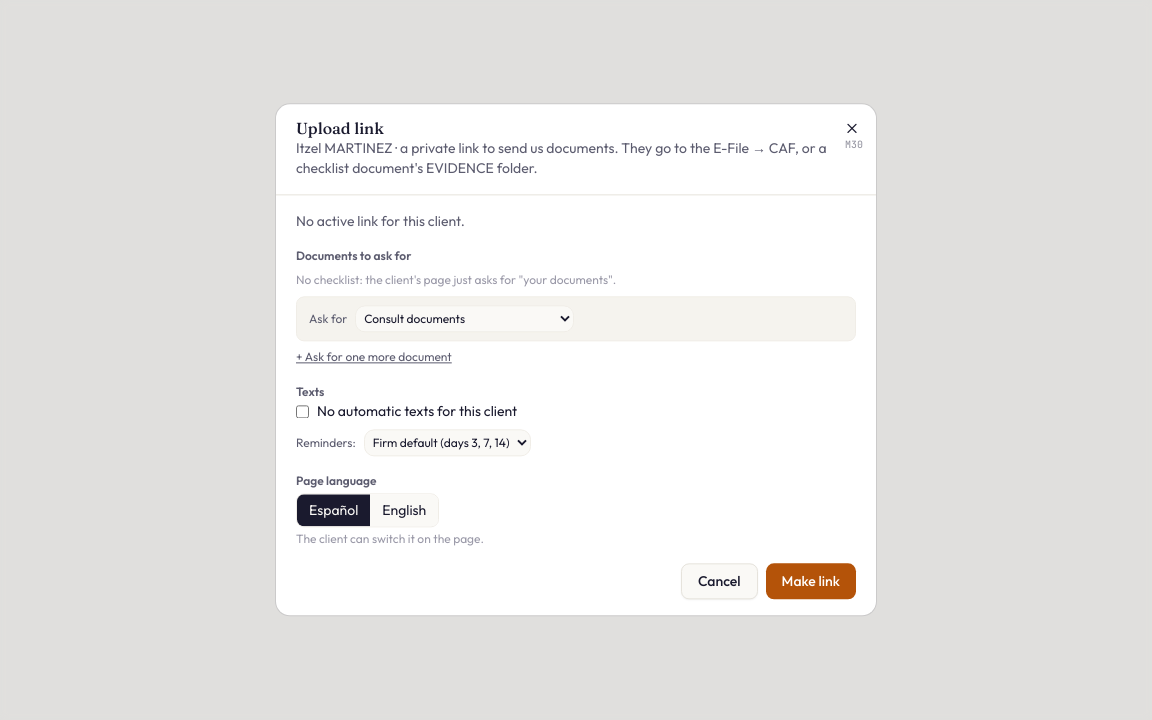
Test case: Buzón checklist in M30 › Ask for → Consult → the appointment and a consult list; Other needs no list
Select "Consult documents" in the dropdown labelled "Ask for": (465, 319) [355, 306, 574, 332]
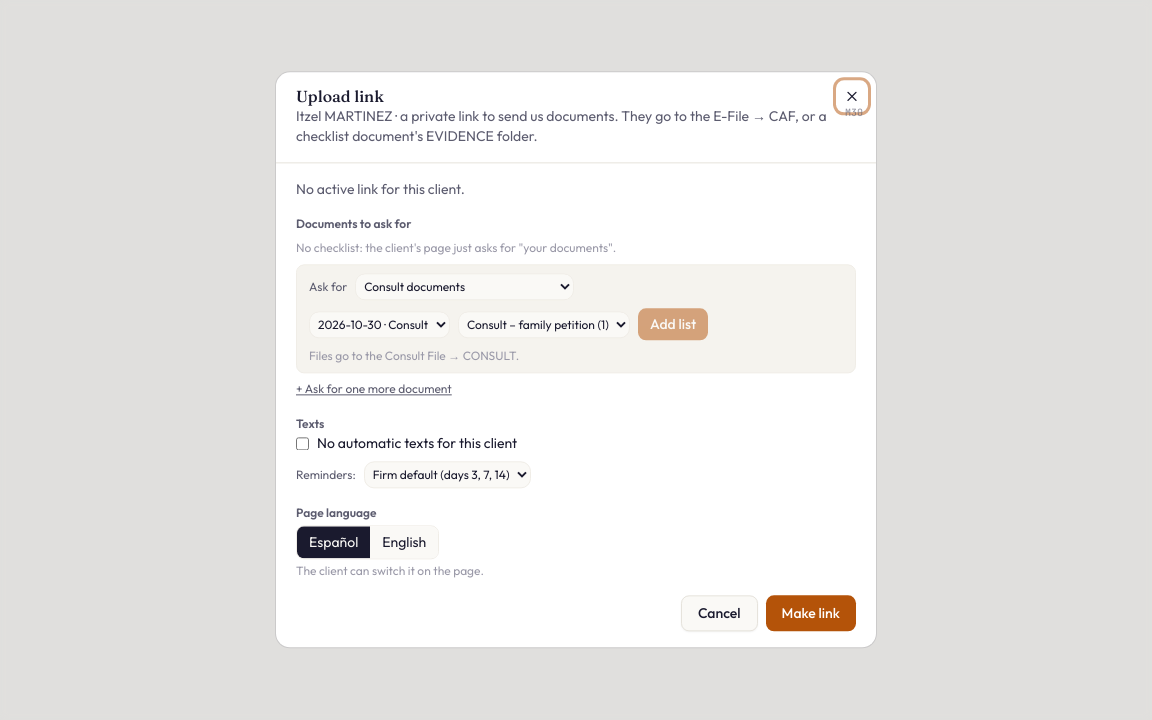
Select "Consult – family petition (1)" in the dropdown named "Consult list": (544, 324) [458, 311, 630, 338]
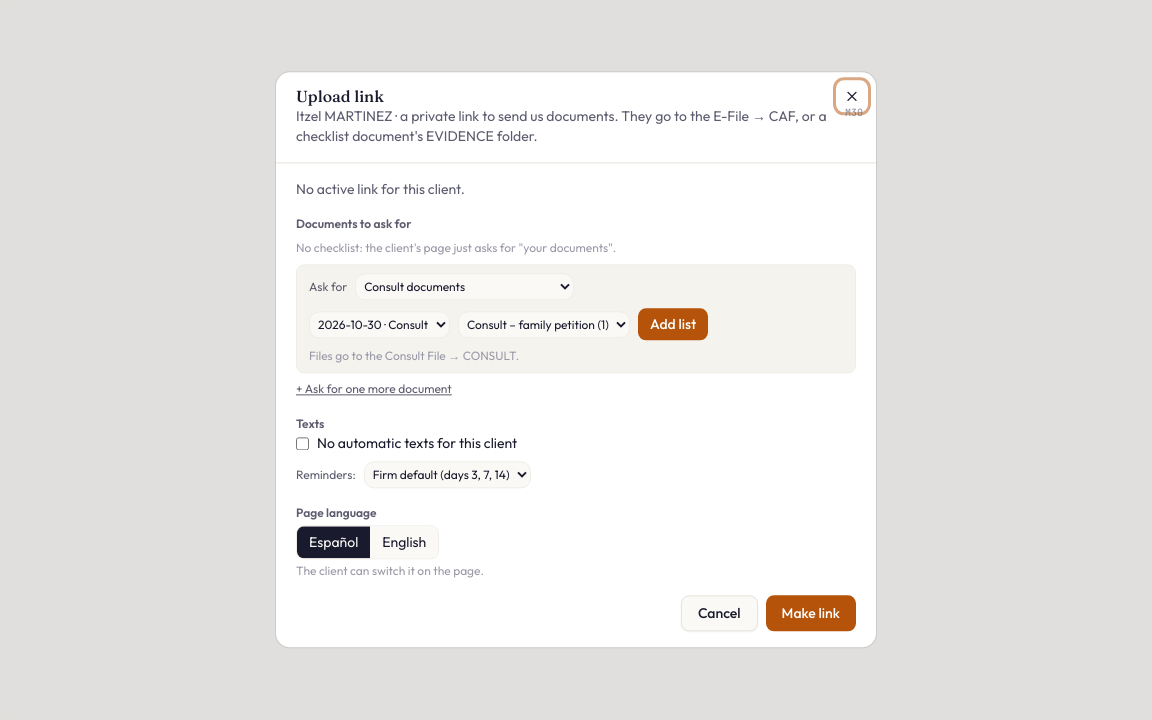
Now the button "Add list" is shown
Click the button "Add list": (673, 324) [638, 308, 708, 340]
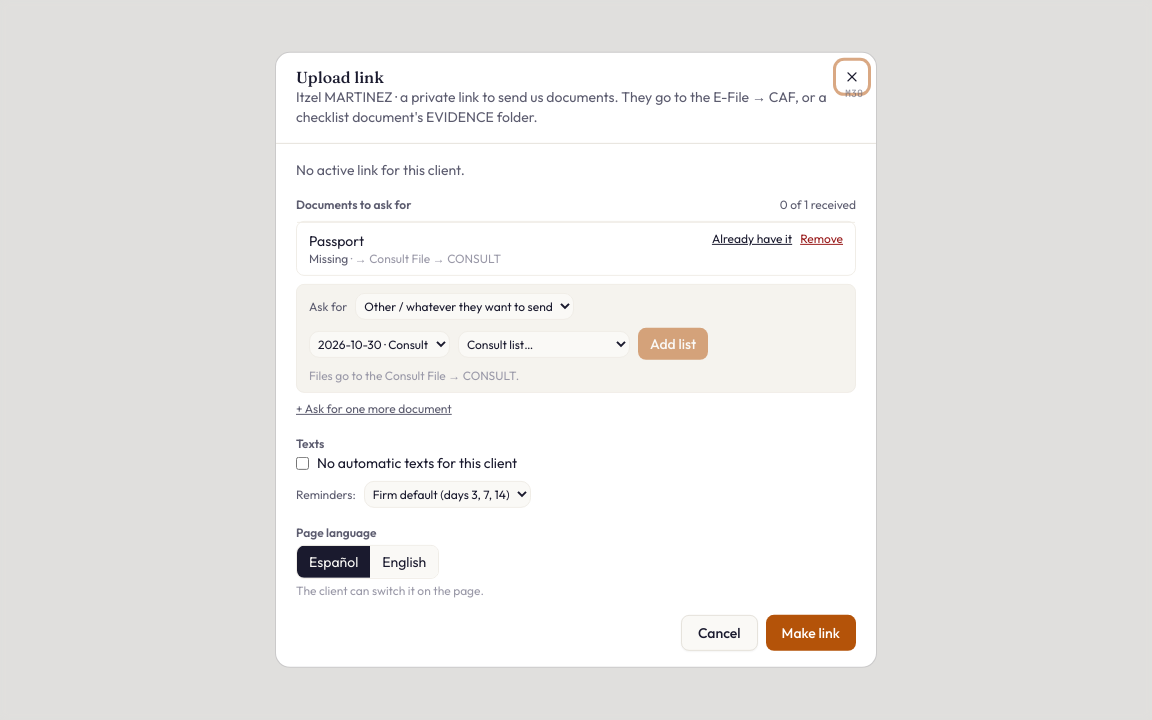
Select "Other / whatever they want to send" in the dropdown labelled "Ask for": (465, 306) [355, 293, 574, 320]
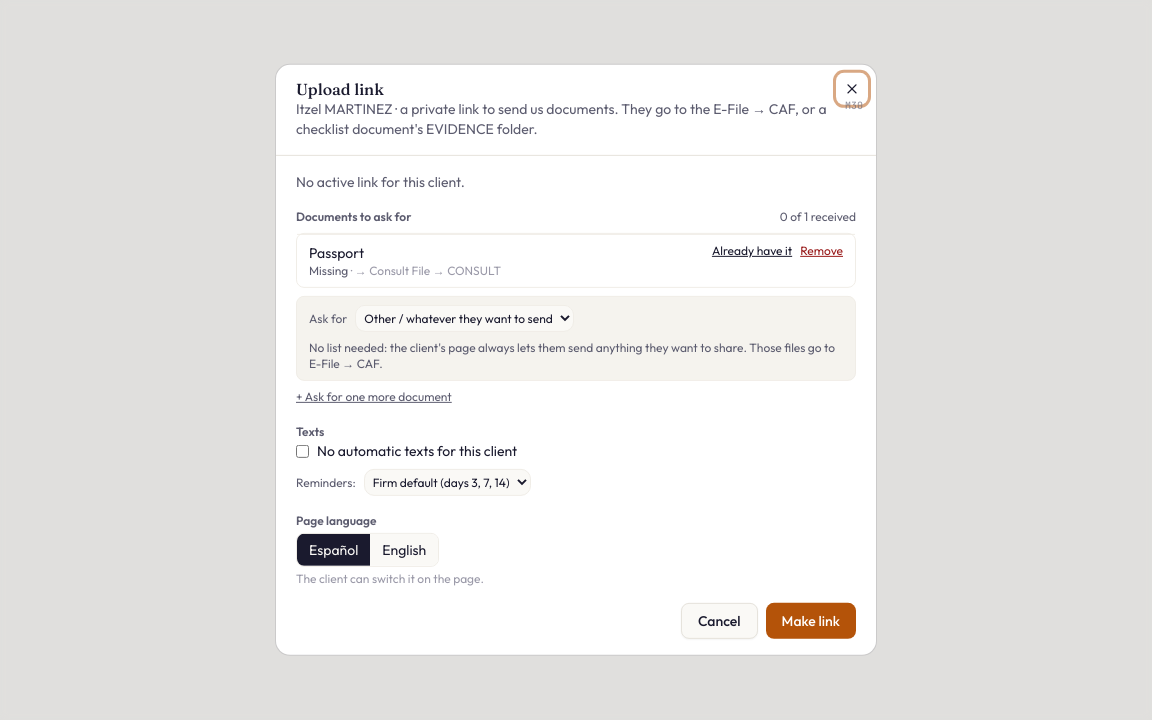
Now the text "No list needed" is shown, box [309, 340, 835, 371]
